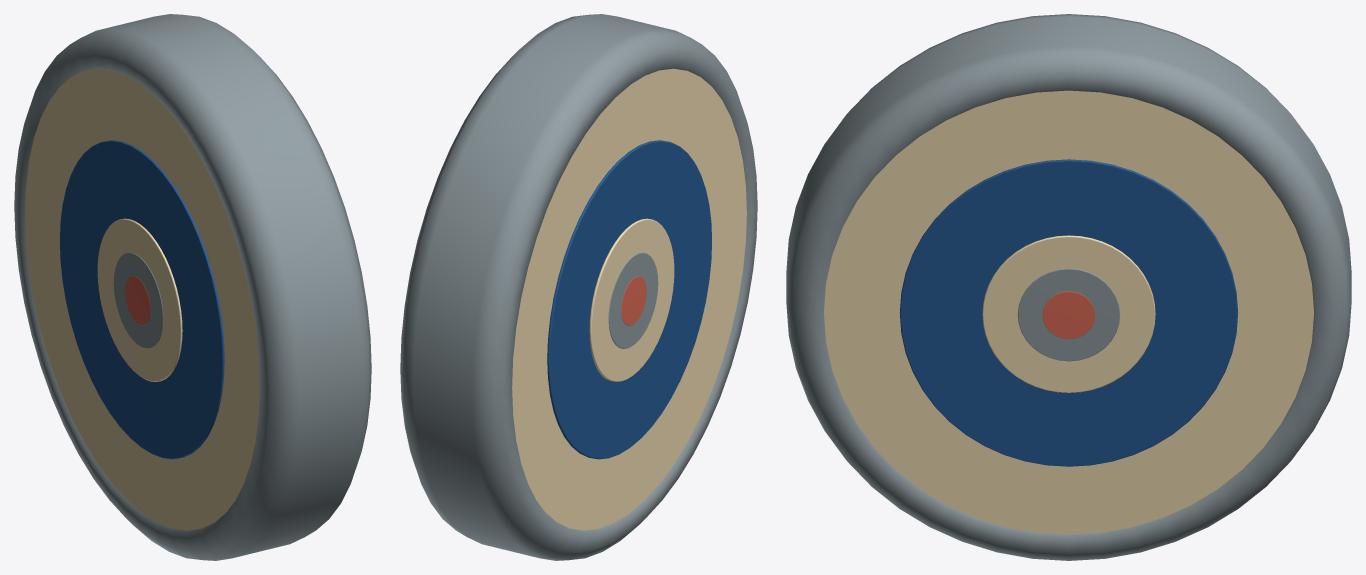
File: transit_disc.glb
3 renders of one model, left to right at view 1: azimuth 30°, elevation 25°; view 2: azimuth 150°, elevation 25°; view 3: azimuth 270°, elevation 25°, orthographic. The views are drawn at different scales.
Parts seen in each view (by area): view 1: transit_disc_SF_TransitSteel, transit_disc_SF_TransitCream, transit_disc_SF_TransitCobalt, transit_disc_PlayerColor; view 2: transit_disc_SF_TransitSteel, transit_disc_SF_TransitCream, transit_disc_SF_TransitCobalt, transit_disc_PlayerColor; view 3: transit_disc_SF_TransitCream, transit_disc_SF_TransitSteel, transit_disc_SF_TransitCobalt, transit_disc_PlayerColor.
Boxes of the visible parts, x1,y1,x2,y2 form: transit_disc_SF_TransitSteel: (14, 14, 371, 560); transit_disc_SF_TransitCream: (25, 68, 259, 530); transit_disc_SF_TransitCobalt: (60, 140, 224, 459); transit_disc_PlayerColor: (125, 276, 150, 325); transit_disc_SF_TransitSteel: (400, 14, 757, 560); transit_disc_SF_TransitCream: (512, 68, 746, 530); transit_disc_SF_TransitCobalt: (547, 140, 711, 459); transit_disc_PlayerColor: (621, 276, 646, 325); transit_disc_SF_TransitCream: (824, 90, 1313, 534); transit_disc_SF_TransitSteel: (786, 14, 1351, 560); transit_disc_SF_TransitCobalt: (900, 159, 1237, 466); transit_disc_PlayerColor: (1042, 291, 1095, 339).
Size of the model in its own units: 0.3 by 1.28 by 1.28.
